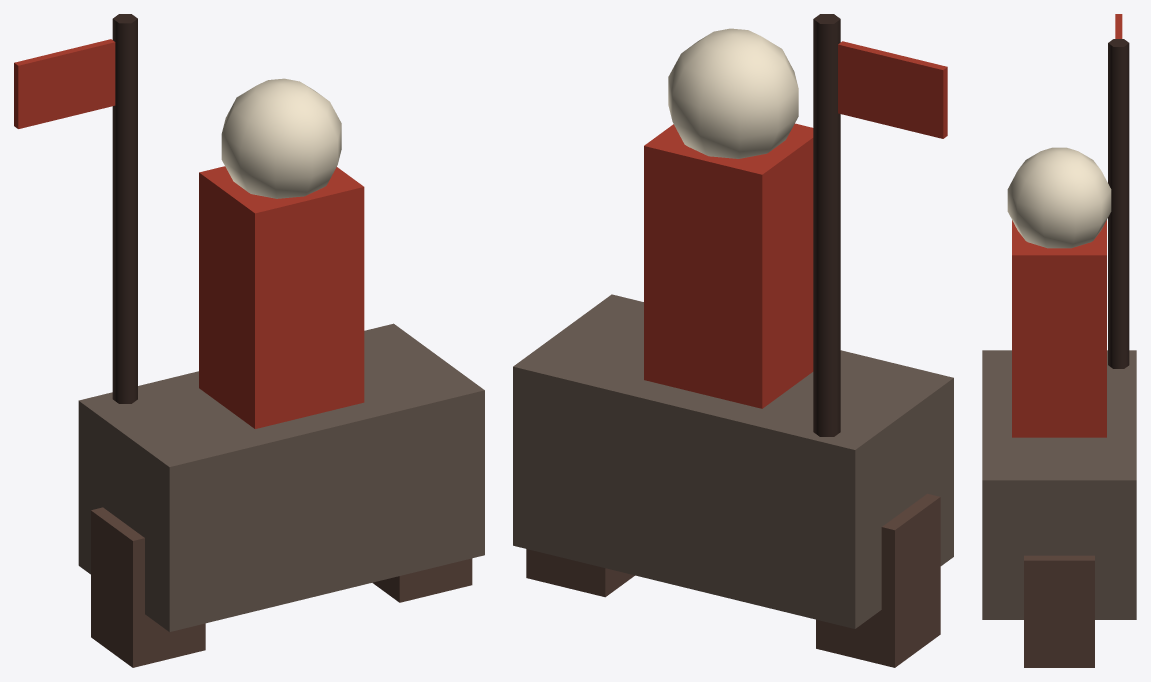
The picture shows the model from 3 angles, left to right: view 1: azimuth 30°, elevation 25°; view 2: azimuth 150°, elevation 25°; view 3: azimuth 270°, elevation 25°; orthographic projection. The views are drawn at different scales.
Visible parts, largest first — view 1: _MeshInstance3D_18, _MeshInstance3D_21, _MeshInstance3D_22, _MeshInstance3D_23, _MeshInstance3D_20, _MeshInstance3D_24, _MeshInstance3D_19; view 2: _MeshInstance3D_18, _MeshInstance3D_21, _MeshInstance3D_22, _MeshInstance3D_23, _MeshInstance3D_20, _MeshInstance3D_24, _MeshInstance3D_19; view 3: _MeshInstance3D_18, _MeshInstance3D_21, _MeshInstance3D_22, _MeshInstance3D_19, _MeshInstance3D_23.
Part boxes in pixels (box(x1,y1,x2,y2)): _MeshInstance3D_18: box(78, 323, 484, 631); _MeshInstance3D_21: box(199, 166, 364, 428); _MeshInstance3D_22: box(221, 78, 341, 198); _MeshInstance3D_23: box(112, 14, 137, 403); _MeshInstance3D_20: box(91, 507, 205, 667); _MeshInstance3D_24: box(14, 39, 115, 128); _MeshInstance3D_19: box(372, 558, 472, 602); _MeshInstance3D_18: box(513, 294, 953, 628); _MeshInstance3D_21: box(644, 123, 813, 408); _MeshInstance3D_22: box(668, 28, 798, 158); _MeshInstance3D_23: box(813, 14, 840, 436); _MeshInstance3D_20: box(816, 493, 940, 667); _MeshInstance3D_24: box(838, 41, 947, 138); _MeshInstance3D_19: box(526, 549, 634, 597); _MeshInstance3D_18: box(982, 350, 1136, 619); _MeshInstance3D_21: box(1012, 220, 1106, 437); _MeshInstance3D_22: box(1007, 147, 1111, 248); _MeshInstance3D_19: box(1024, 555, 1094, 667); _MeshInstance3D_23: box(1108, 39, 1129, 368).
Bounding box in the file's own units: 0.66 × 0.94 × 0.26.
